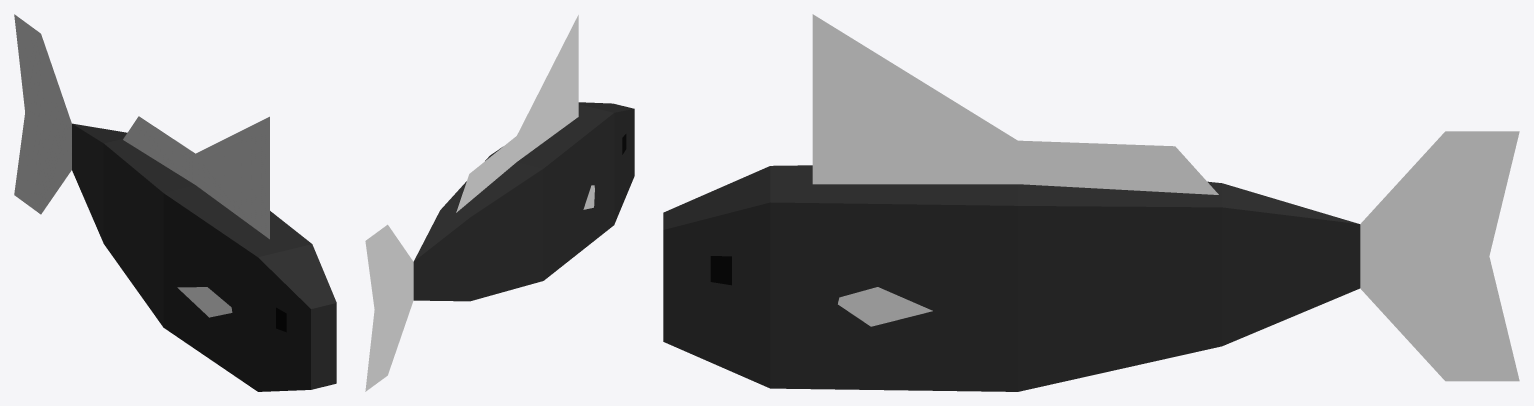
The model's file is 03flyingfish.fbx.
3 renders of one model, left to right at view 1: azimuth 30°, elevation 25°; view 2: azimuth 150°, elevation 25°; view 3: azimuth 270°, elevation 25°, orthographic. The views are drawn at different scales.
Parts seen in each view (by area): view 1: Tropical Fish 03; view 2: Tropical Fish 03; view 3: Tropical Fish 03.
Boxes of the visible parts, x1,y1,x2,y2 form: Tropical Fish 03: [14, 14, 336, 391]; Tropical Fish 03: [365, 15, 634, 391]; Tropical Fish 03: [663, 14, 1519, 391].
Bounding box in the file's own units: 18.36 × 47.39 × 100.
